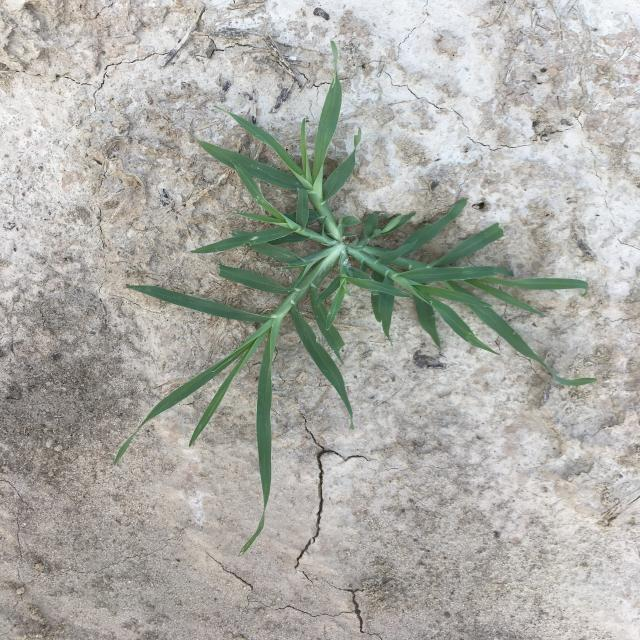Goosegrass: (114, 40, 598, 553)
